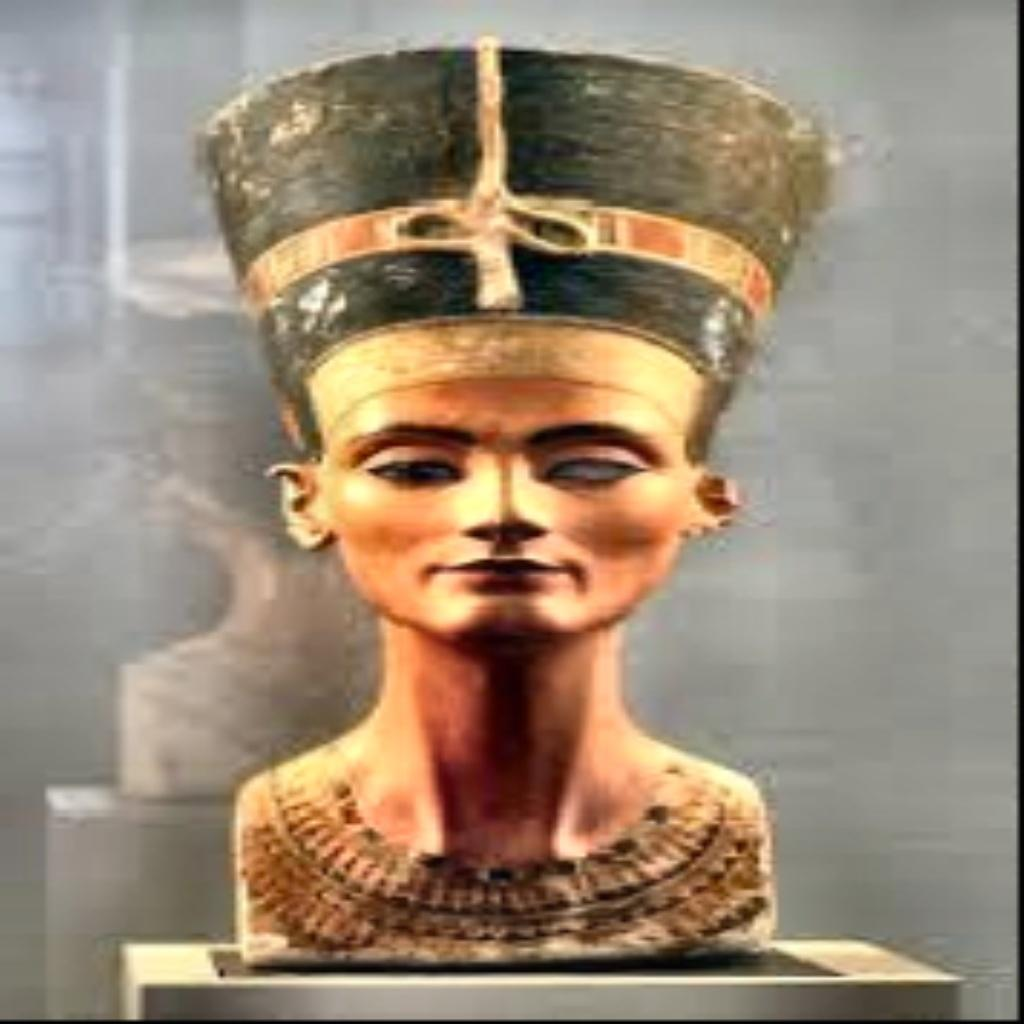Nefertiti: (190, 36, 840, 970)
